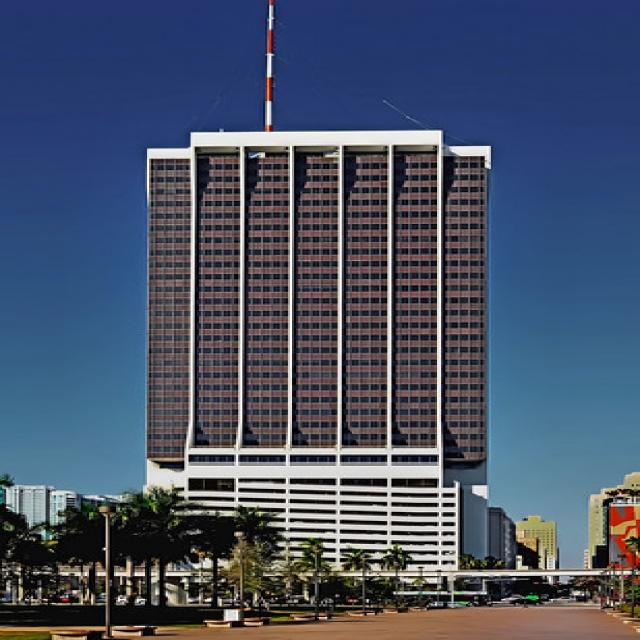Normal_building: (139, 123, 495, 591)
